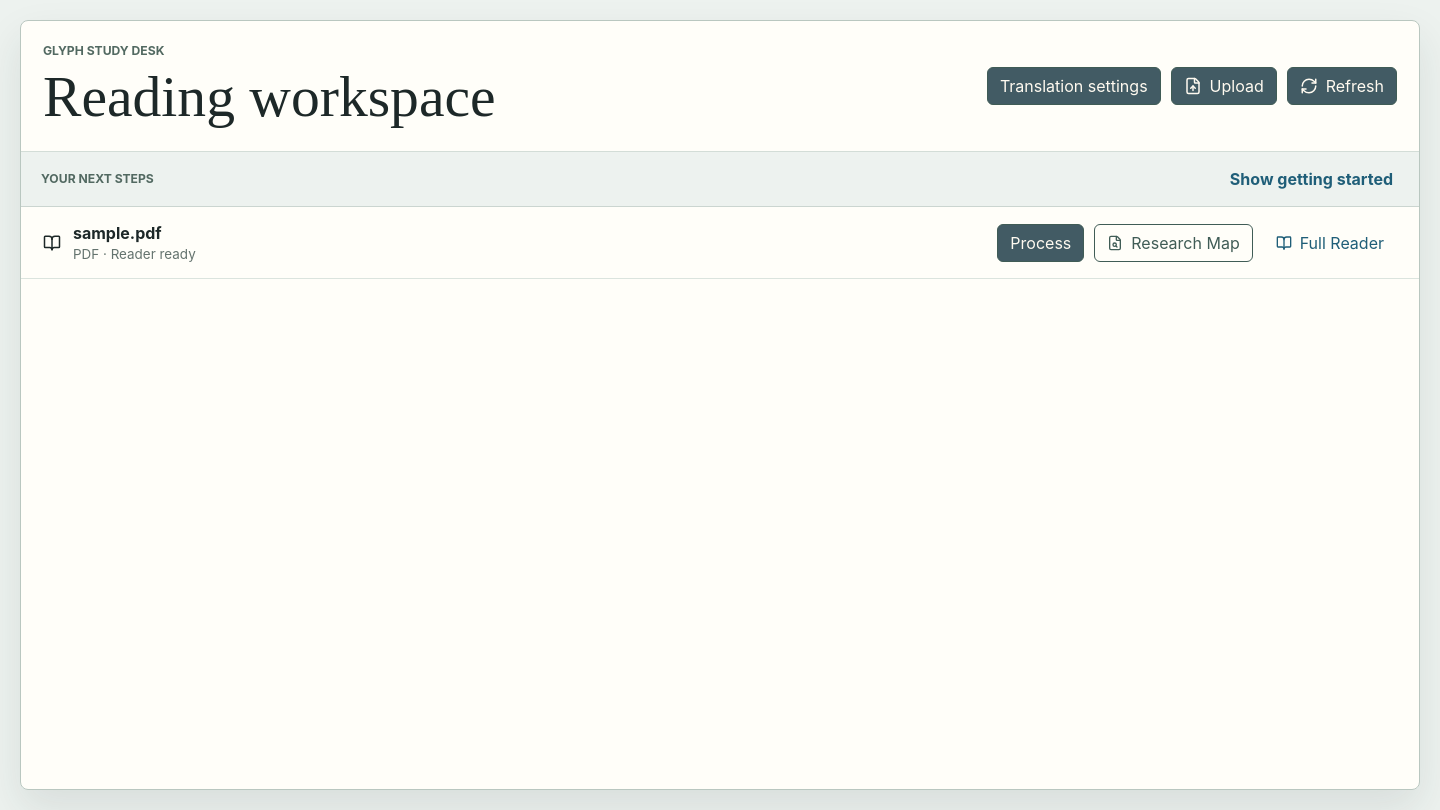
Test: App › treats a failed processing job as an error even when the request succeeded
This screenshot has width=1440, height=810.
Click the button with aria-label "Process sample.pdf": (1041, 242) [997,224,1084,262]
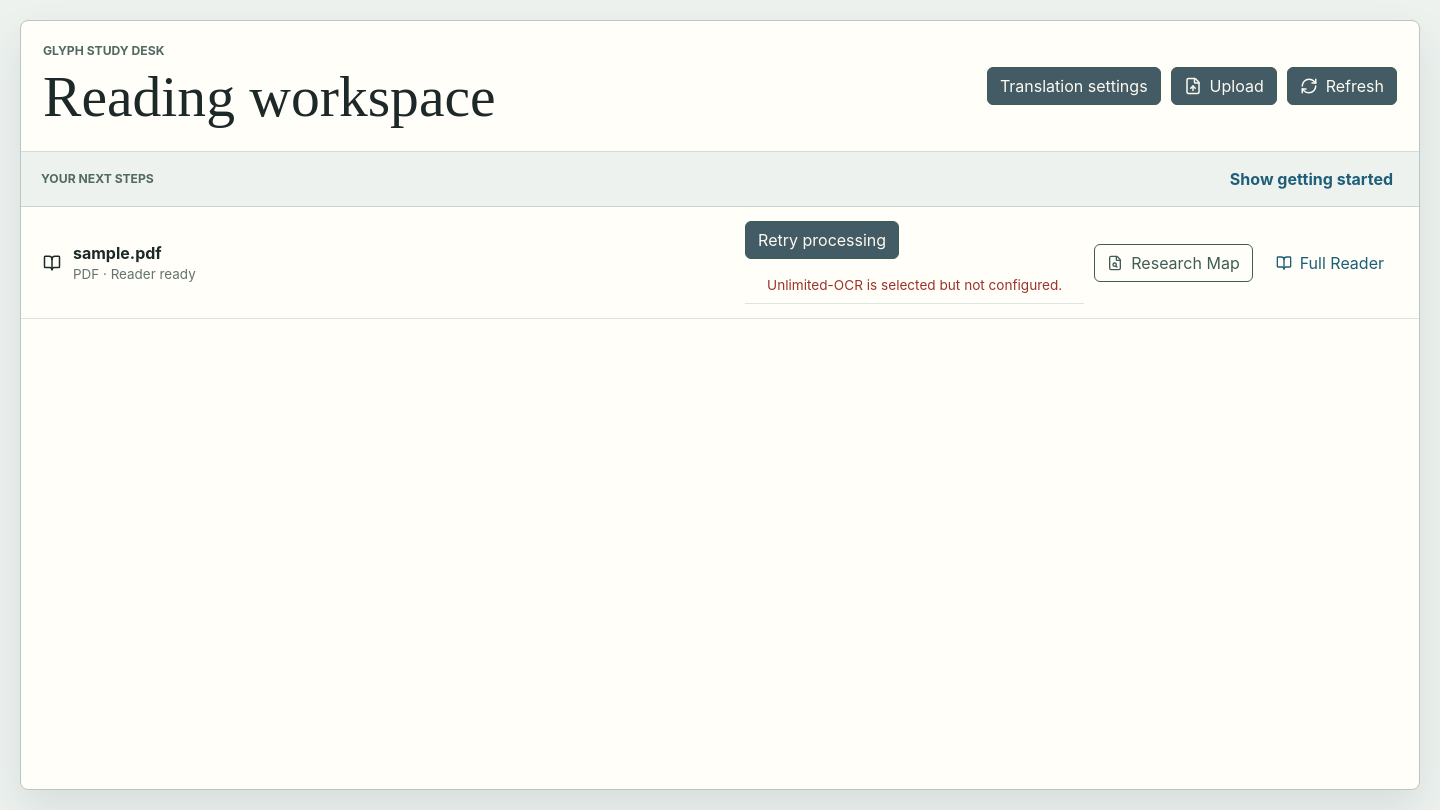
Check: the text "Unlimited-OCR is selected but not configured." is shown, box [745,267,1084,304]
